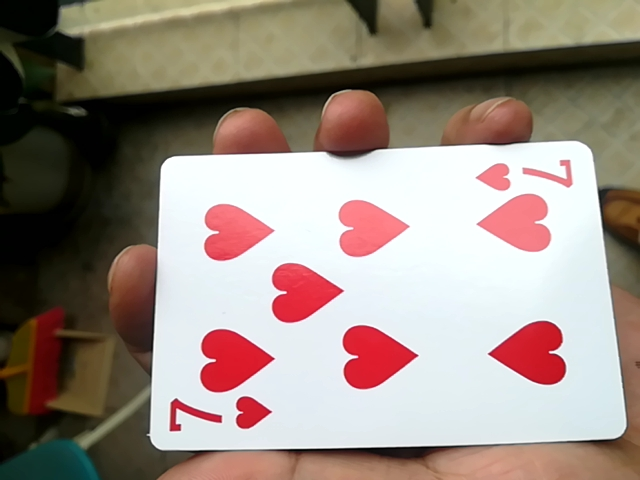hx 7: (137, 141, 618, 457)
